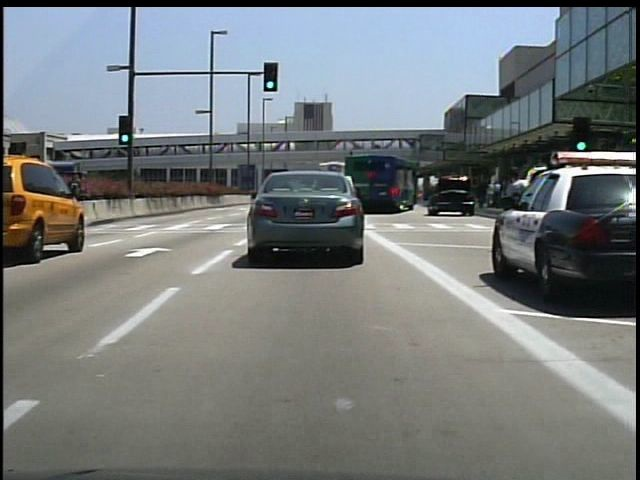person: (497, 164, 534, 260), (48, 168, 64, 223), (68, 173, 85, 200)
